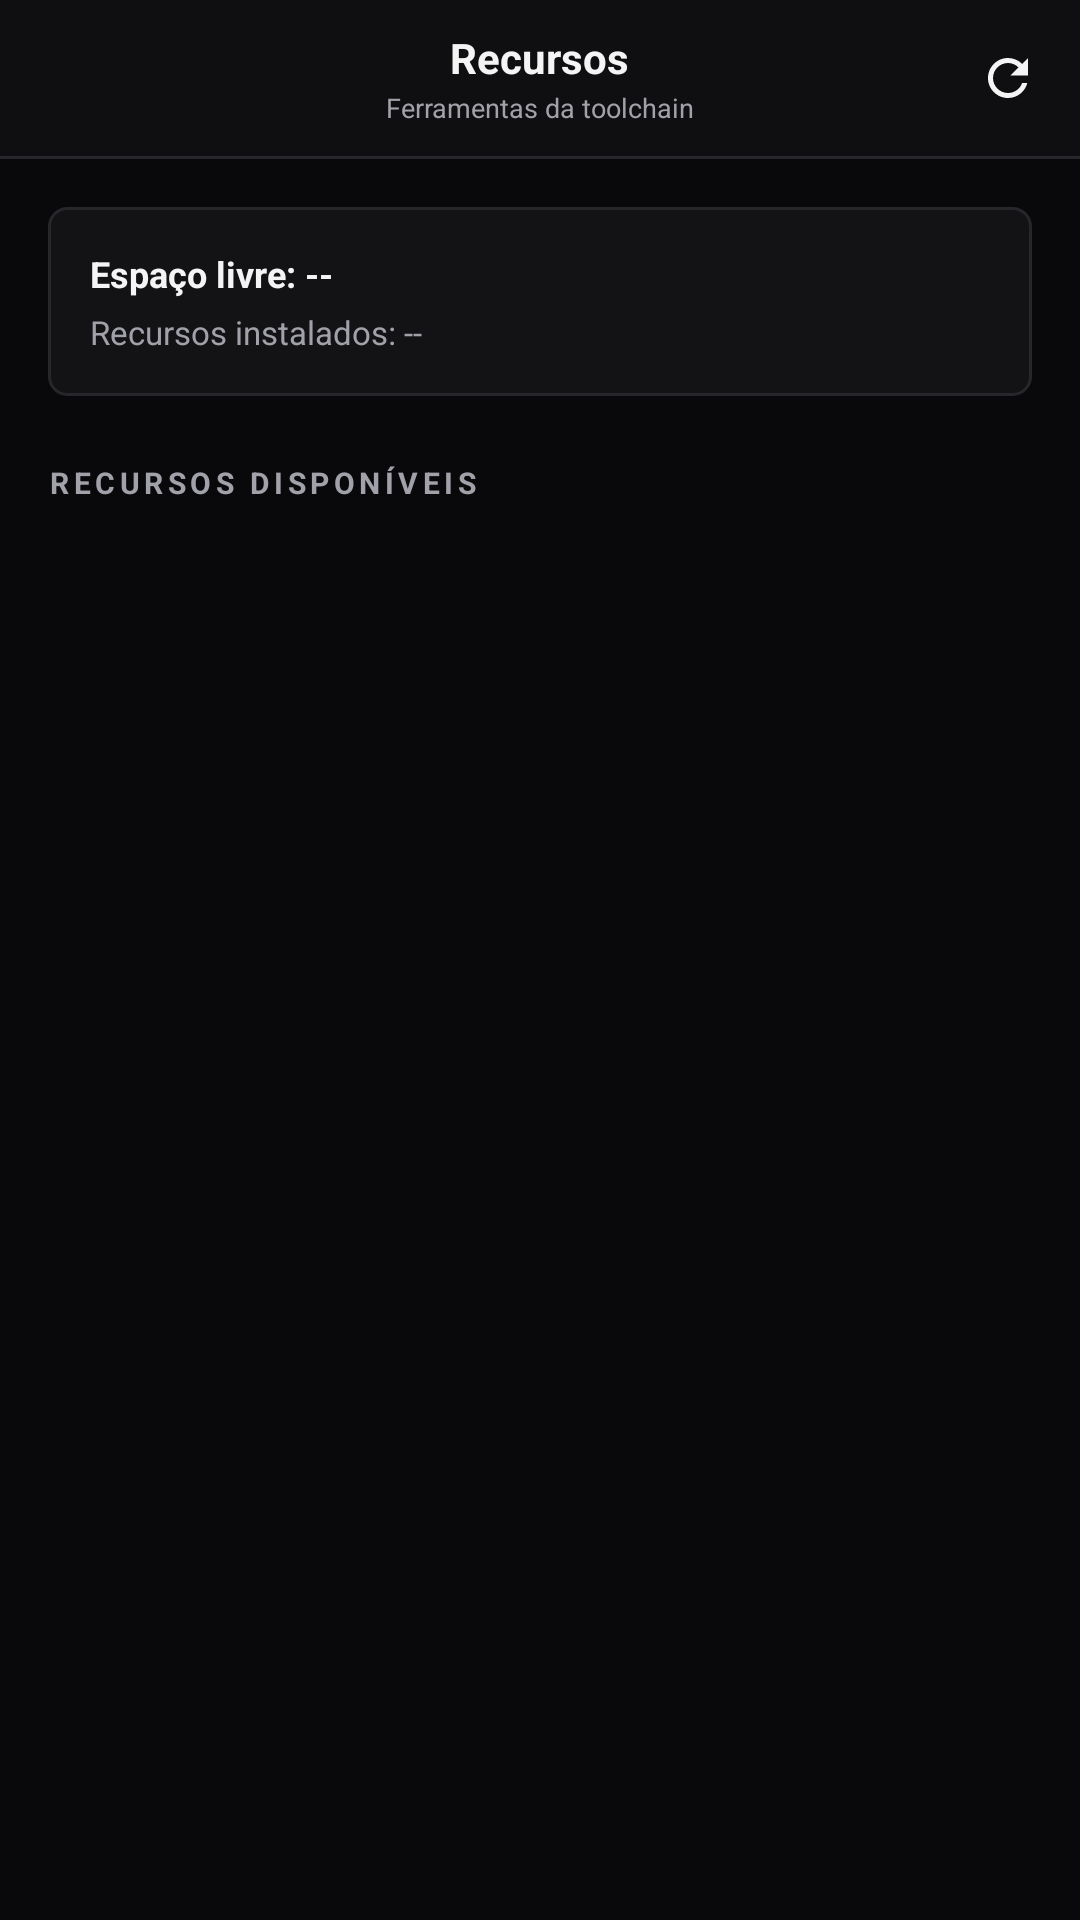

Named icons in this screenshot (1080 x 1920) and their centers, (x,y):
Atualizar: (1008,78)
